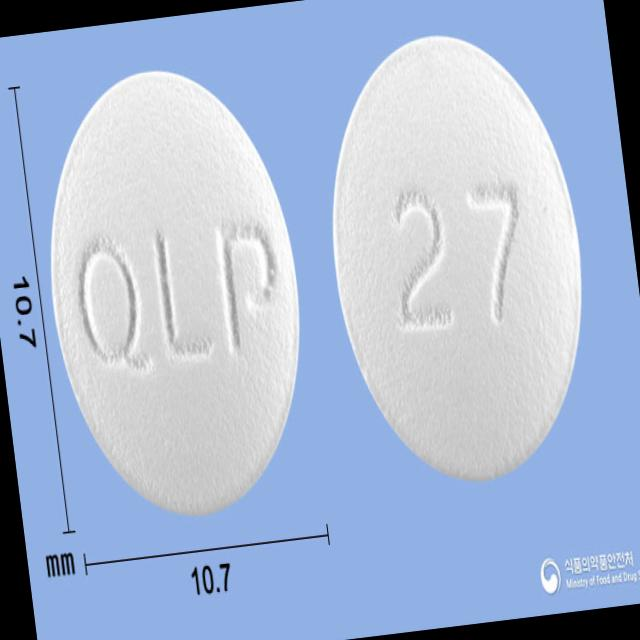Cyrus: (306, 15, 608, 495), (24, 49, 325, 530)
